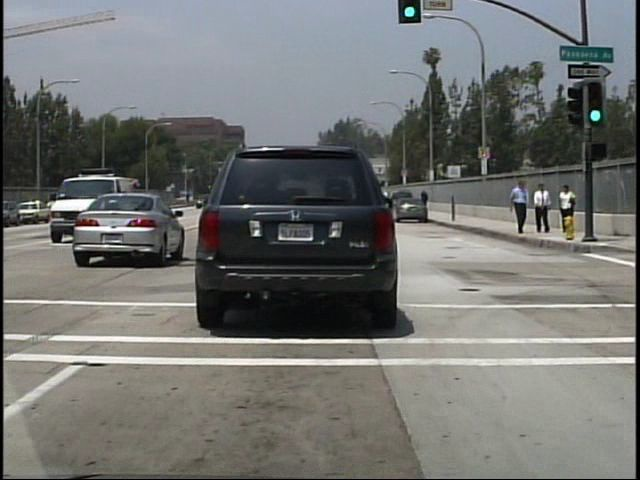person: (510, 177, 531, 236), (534, 181, 555, 233), (558, 181, 579, 216), (419, 187, 431, 214)
